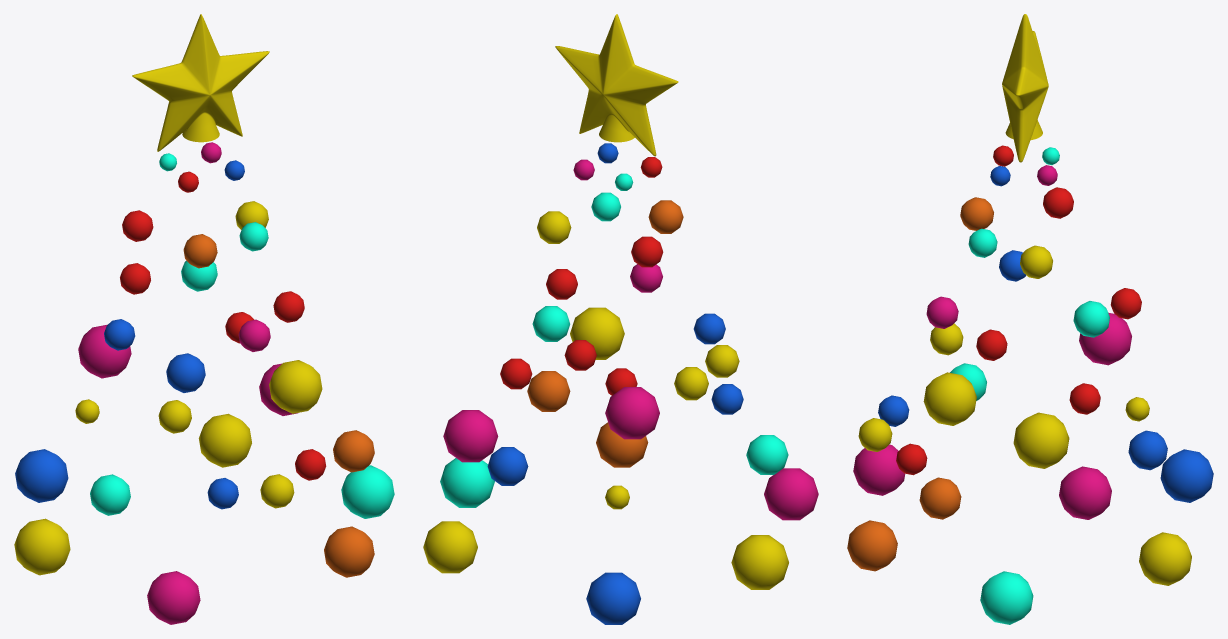
3 views of the same model, side by side, from view 1: azimuth 30°, elevation 25°; view 2: azimuth 150°, elevation 25°; view 3: azimuth 270°, elevation 25° (orthographic).
Parts seen in each view (by area): view 1: Gold_star, Icosphere.017, Icosphere.005, Icosphere.006, Icosphere.020, Icosphere.003, Icosphere.004, Icosphere.024, Icosphere.002, Icosphere, Icosphere.001, Icosphere.013 (+14 smaller); view 2: Gold_star, Icosphere.017, Icosphere.020, Icosphere.003, Icosphere.018, Icosphere.005, Icosphere.002, Icosphere.004, Icosphere.006, Icosphere.024, Icosphere, Icosphere.001 (+15 smaller); view 3: Gold_star, Icosphere.017, Icosphere.006, Icosphere.020, Icosphere.004, Icosphere.003, Icosphere.018, Icosphere.024, Icosphere.005, Icosphere.002, Icosphere, Icosphere.013 (+15 smaller).
Part boxes in pixels (x1,y1,x2,y2): Gold_star: [132, 14, 269, 151]; Icosphere.017: [14, 518, 70, 575]; Icosphere.005: [147, 571, 200, 624]; Icosphere.006: [269, 360, 322, 413]; Icosphere.020: [198, 413, 251, 467]; Icosphere.003: [15, 449, 68, 502]; Icosphere.004: [341, 465, 394, 518]; Icosphere.024: [324, 526, 374, 577]; Icosphere.002: [78, 324, 131, 378]; Icosphere: [333, 430, 374, 472]; Icosphere.001: [90, 474, 130, 515]; Icosphere.013: [166, 353, 205, 392]; Gold_star: [555, 14, 678, 156]; Icosphere.017: [731, 535, 788, 589]; Icosphere.020: [423, 521, 477, 573]; Icosphere.003: [586, 572, 640, 624]; Icosphere.018: [443, 410, 498, 462]; Icosphere.005: [764, 468, 818, 520]; Icosphere.002: [605, 387, 659, 439]; Icosphere.004: [440, 458, 494, 507]; Icosphere.006: [570, 307, 624, 359]; Icosphere.024: [596, 422, 648, 467]; Icosphere: [527, 371, 570, 411]; Icosphere.001: [746, 435, 788, 474]; Gold_star: [1002, 14, 1048, 162]; Icosphere.017: [1013, 412, 1069, 468]; Icosphere.006: [923, 372, 976, 425]; Icosphere.020: [1139, 532, 1191, 585]; Icosphere.004: [980, 571, 1033, 624]; Icosphere.003: [1160, 449, 1213, 502]; Icosphere.018: [1059, 466, 1111, 519]; Icosphere.024: [847, 520, 897, 571]; Icosphere.005: [853, 444, 905, 495]; Icosphere.002: [1079, 312, 1131, 365]; Icosphere: [919, 477, 961, 519]; Icosphere.013: [1128, 430, 1167, 470].
Size of what is drawn, in the model's own units: 1.11 by 1.6 by 0.9958.
2 materials, 1 textured.
